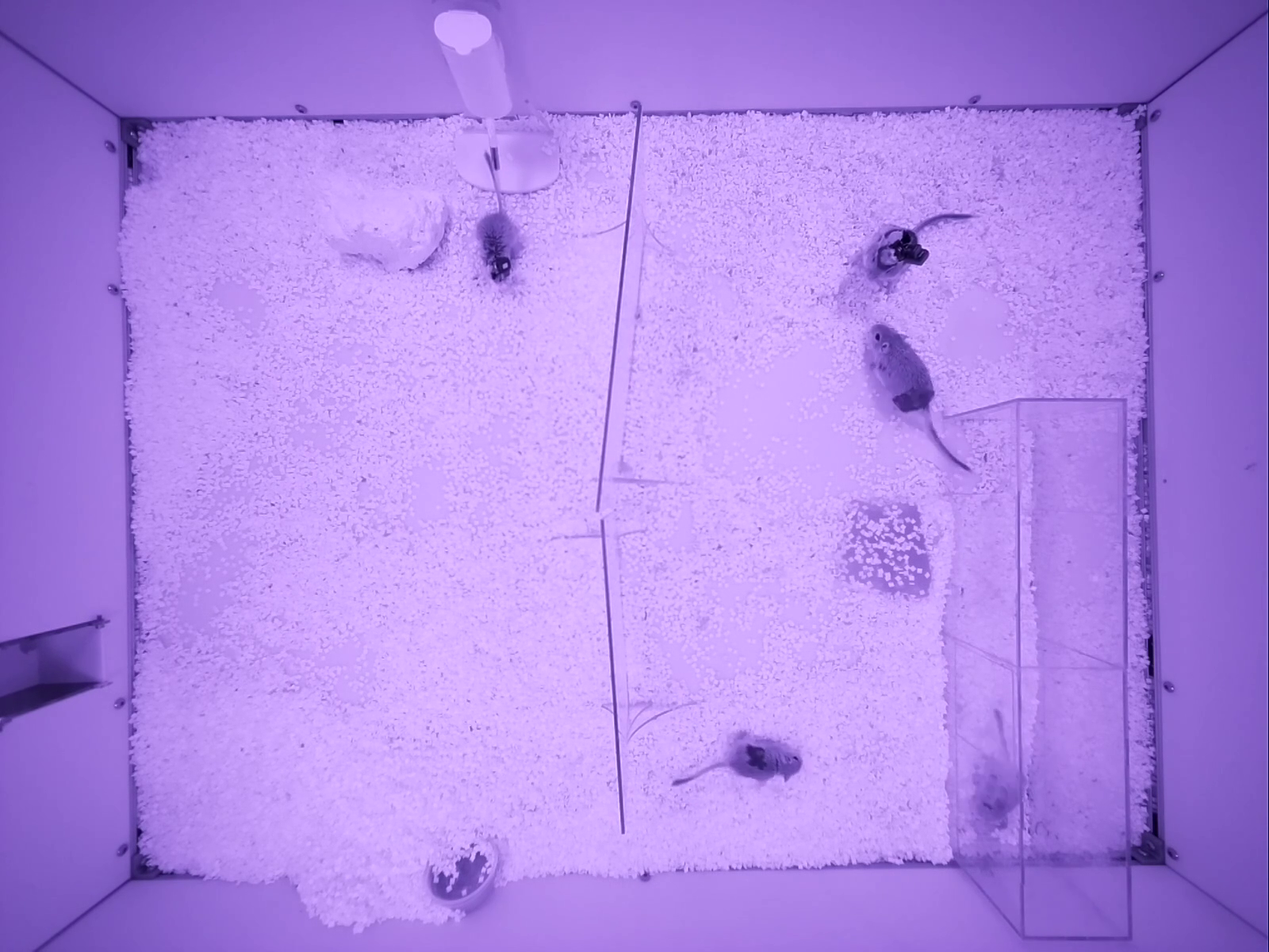adult_back: (867, 324, 969, 470), (861, 213, 971, 286), (674, 732, 801, 784), (477, 151, 521, 281), (973, 709, 1019, 828)
